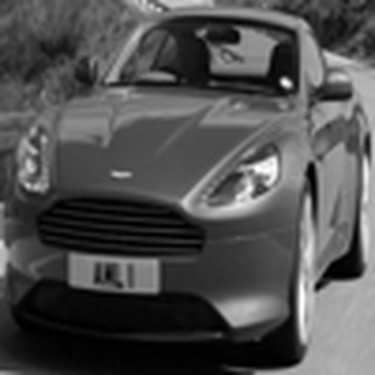car: (1, 8, 371, 372)
